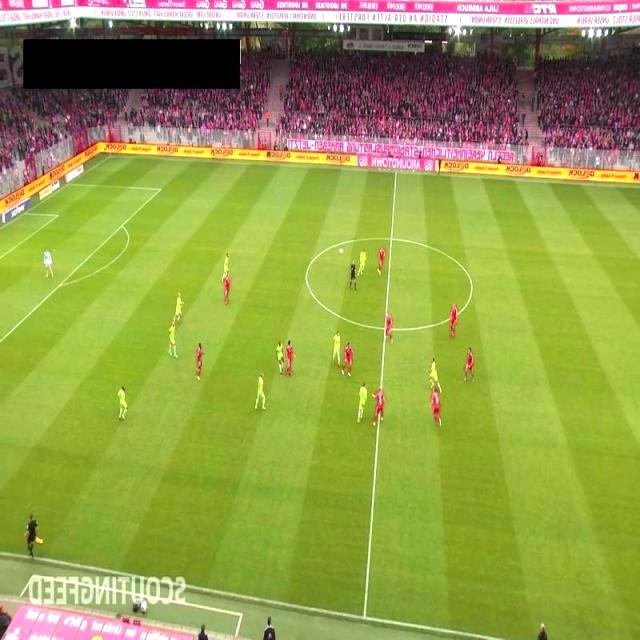bigarea_top_inner: (156, 184, 167, 195)
bigarea_top_outter: (63, 178, 74, 190)
bottom_arc_area_intersection: (54, 280, 65, 291)
corner: (105, 151, 116, 162)
halfcircle_bottom: (380, 323, 390, 334)
halfcircle_top: (386, 233, 396, 244)
midline_bottom_intersection: (358, 610, 372, 624)
midline_top_intersection: (391, 167, 402, 178)
smallarea_top_inner: (52, 210, 63, 220)
smallarea_top_outter: (19, 208, 30, 218)
top_arc_area_intersection: (116, 221, 128, 232)
